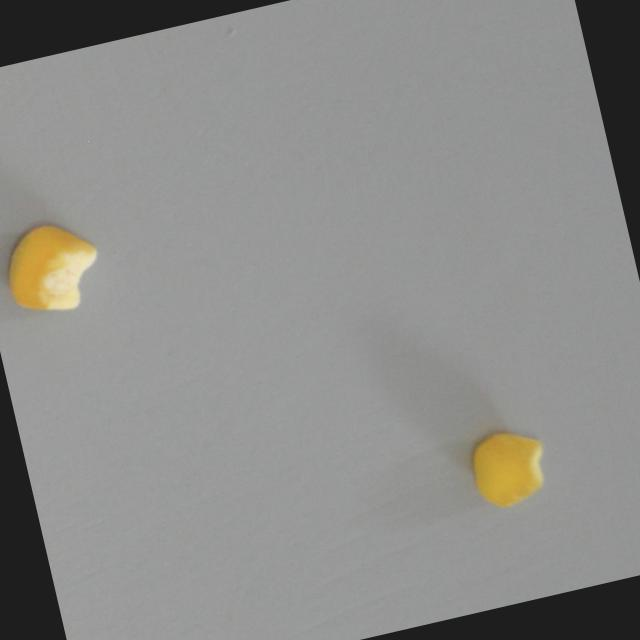estandar: (454, 416, 561, 520)
no_desgerminado: (0, 205, 115, 332)
